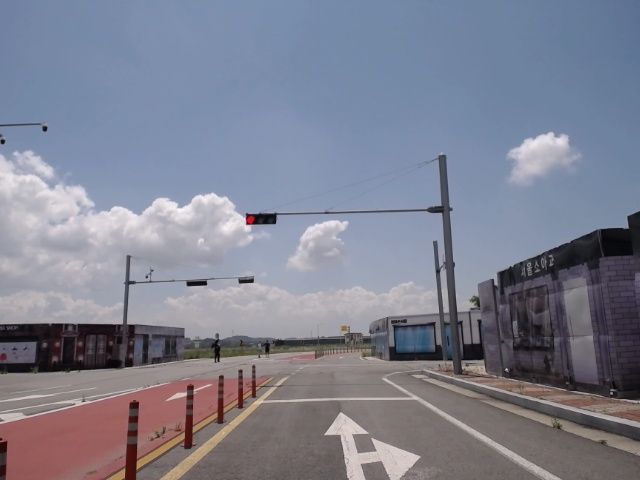red_3: (246, 213, 278, 225)
